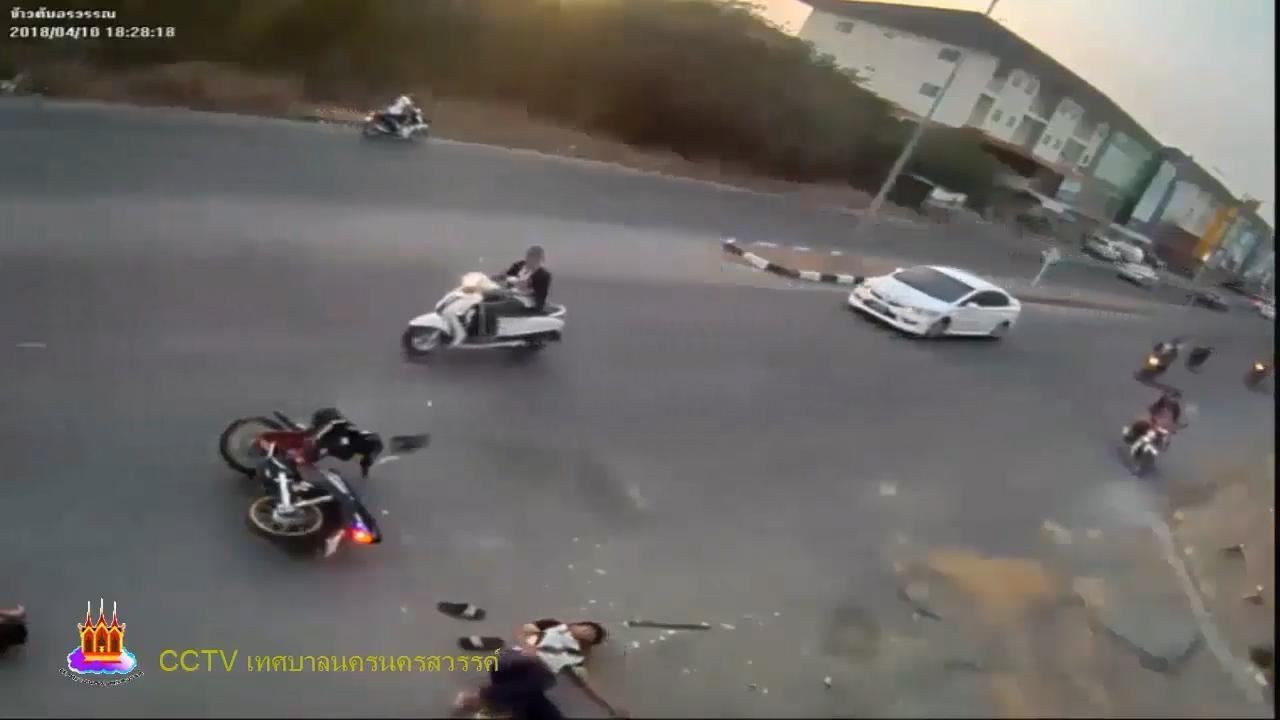accident: (450, 612, 633, 720)
